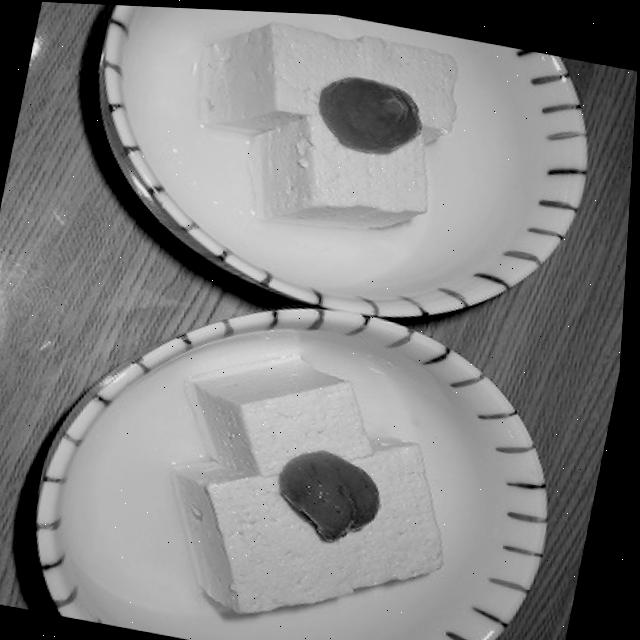豆腐料理: (133, 327, 491, 640)
